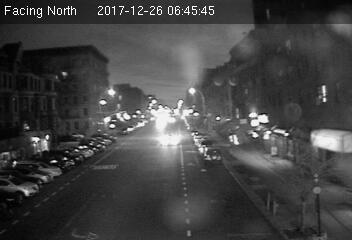car: (201, 146, 222, 163), (158, 132, 180, 146)
